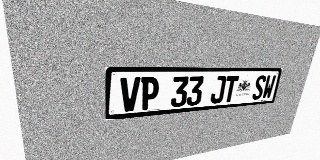3: (170, 76, 189, 108), (186, 76, 204, 106)
J: (210, 76, 227, 104)
P: (140, 77, 160, 110)
S: (251, 75, 267, 100)
T: (222, 76, 239, 103)
V: (120, 77, 141, 112)
W: (261, 75, 276, 99)
